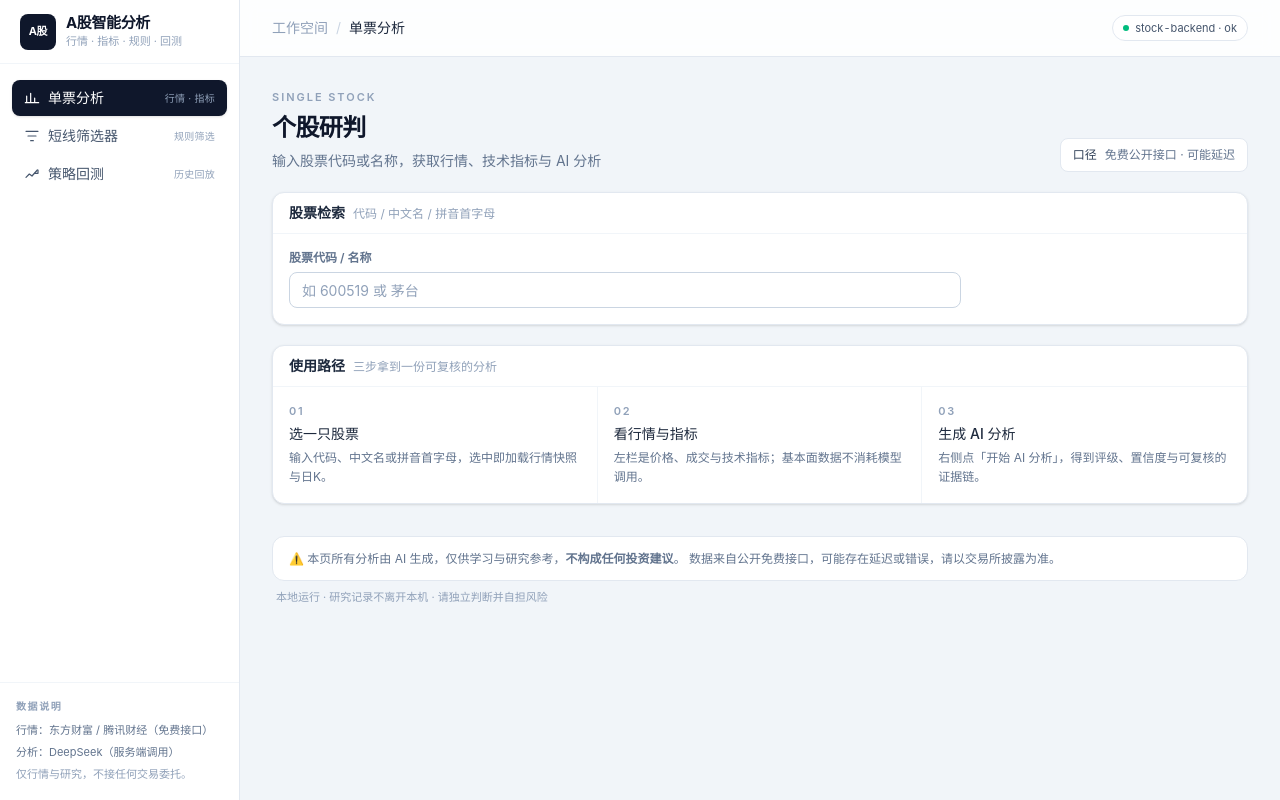
Test: App 选股到行情展示的完整路径 › 数据源不可用时展示可辨识的告警态
Type "茅台" into the dropdown labelled "股票代码 / 名称".
click(625, 290); type("茅台")  # box x1=289 y1=272 x2=961 y2=308
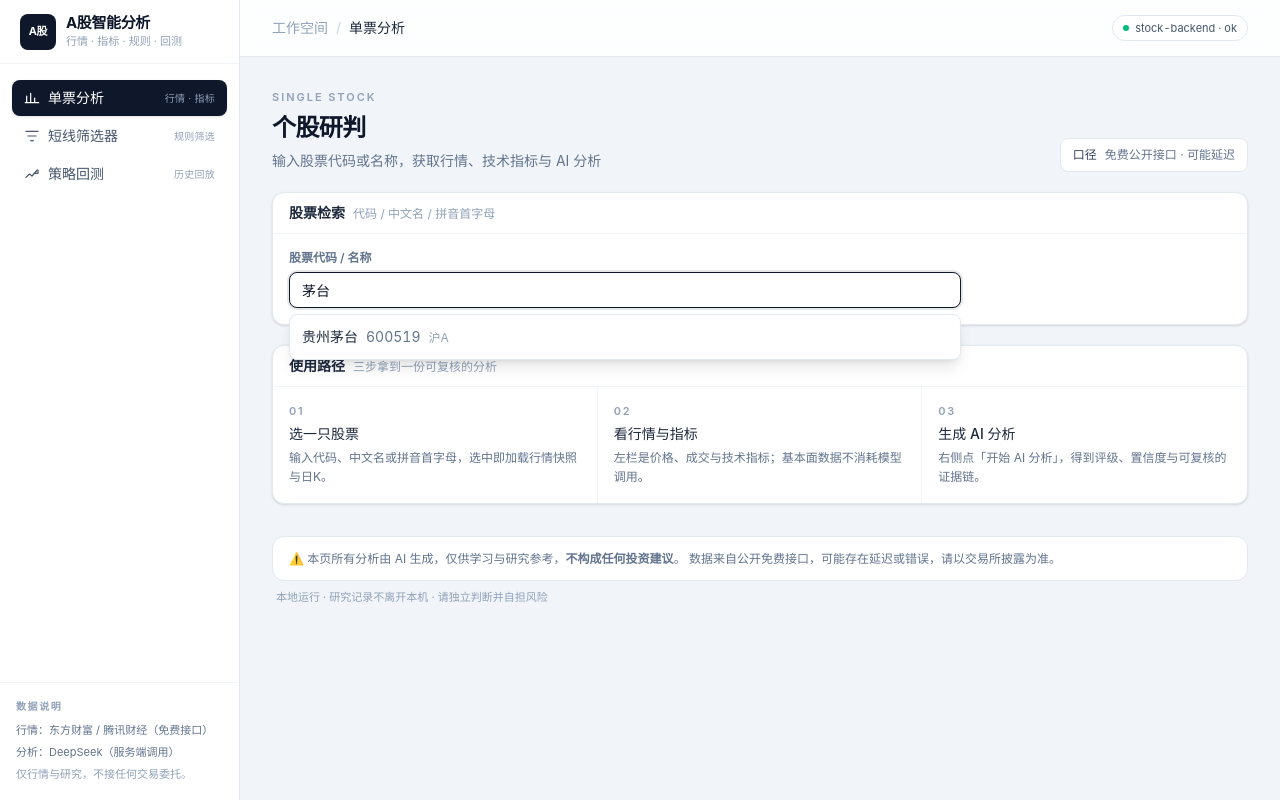
Click the option "贵州茅台600519沪A".
click(375, 337)  # box x1=302 y1=328 x2=449 y2=345
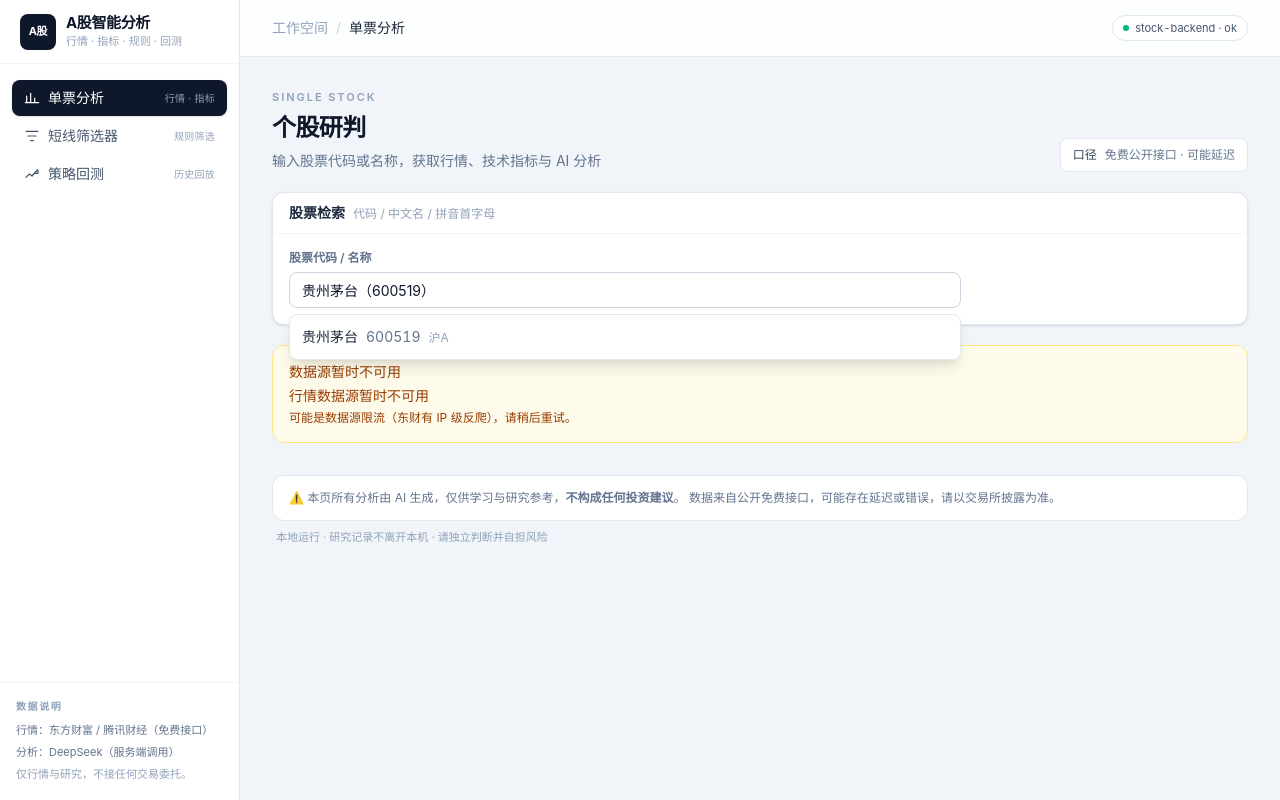
Check: the message shows "数据源暂时不可用", box x1=289 y1=363 x2=401 y2=380
